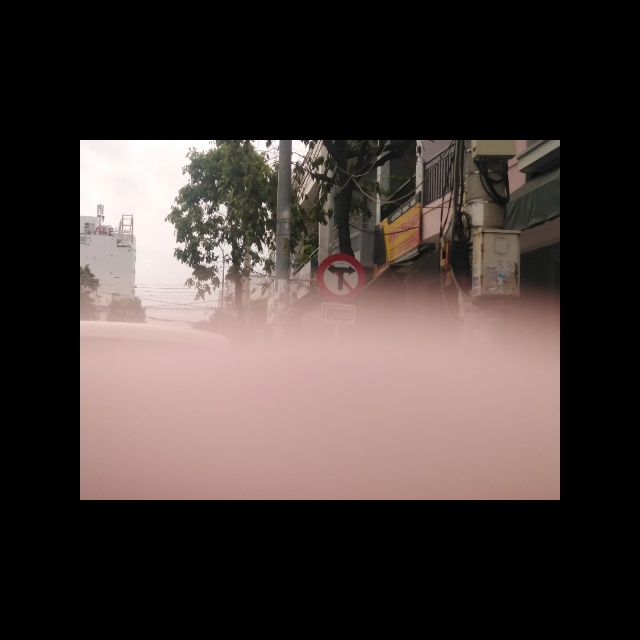Cấm rẽ trái và rẽ phải: (315, 253, 365, 301)
